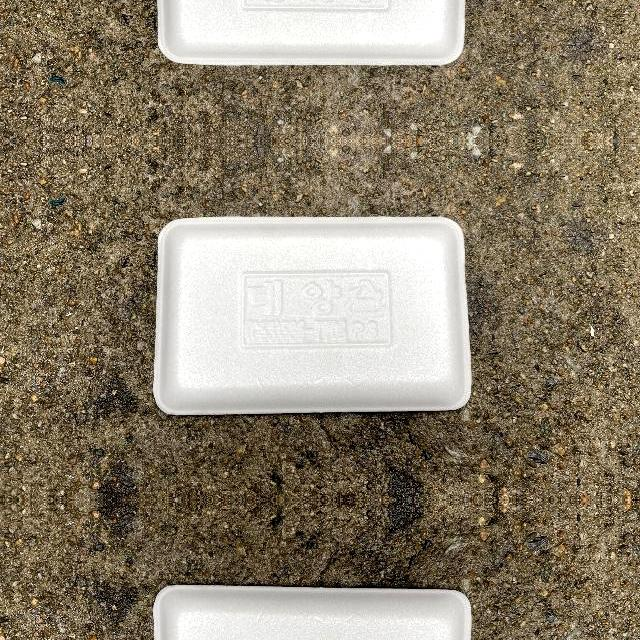Styrofoam: (153, 213, 474, 414), (153, 216, 472, 415), (153, 0, 474, 66), (157, 0, 466, 64), (153, 583, 474, 640), (153, 583, 472, 640)
